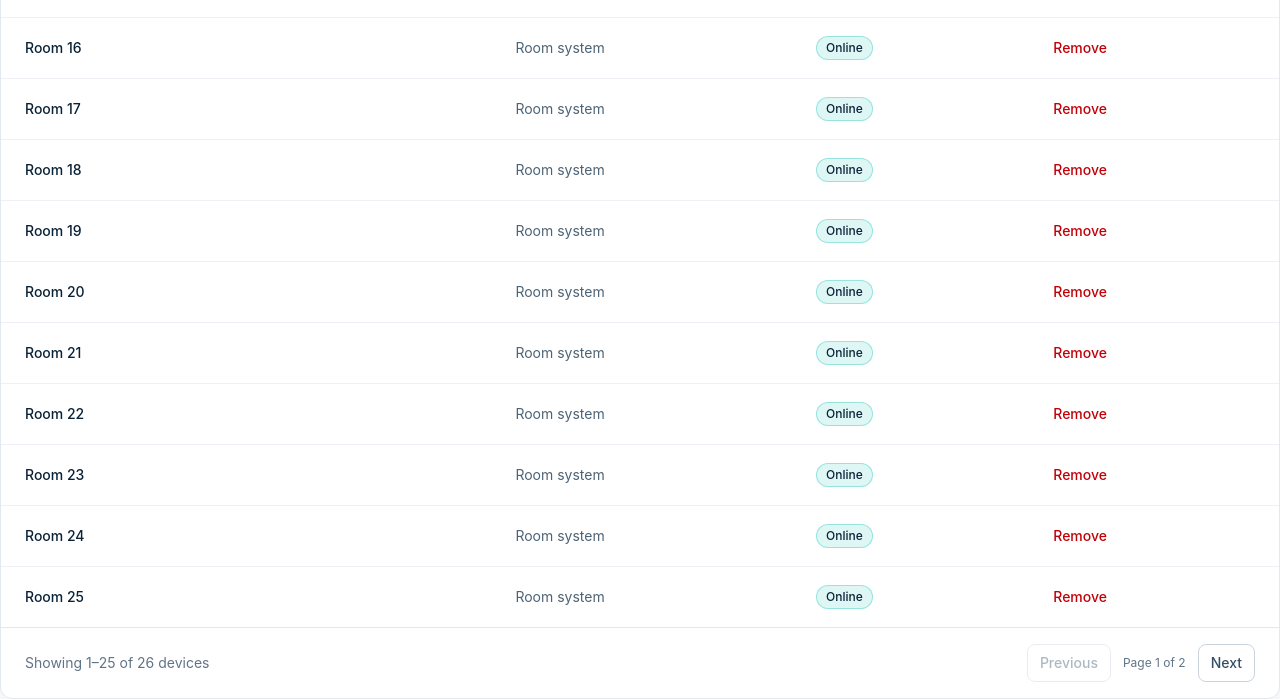
Scenario: DeviceTable › returns to the previous page after removing the only device on the last page
This screenshot has width=1280, height=699.
(page scrolled)
Click the button "Next" at {"x": 1226, "y": 663}, box [1198,644,1255,682]
(page scrolled)
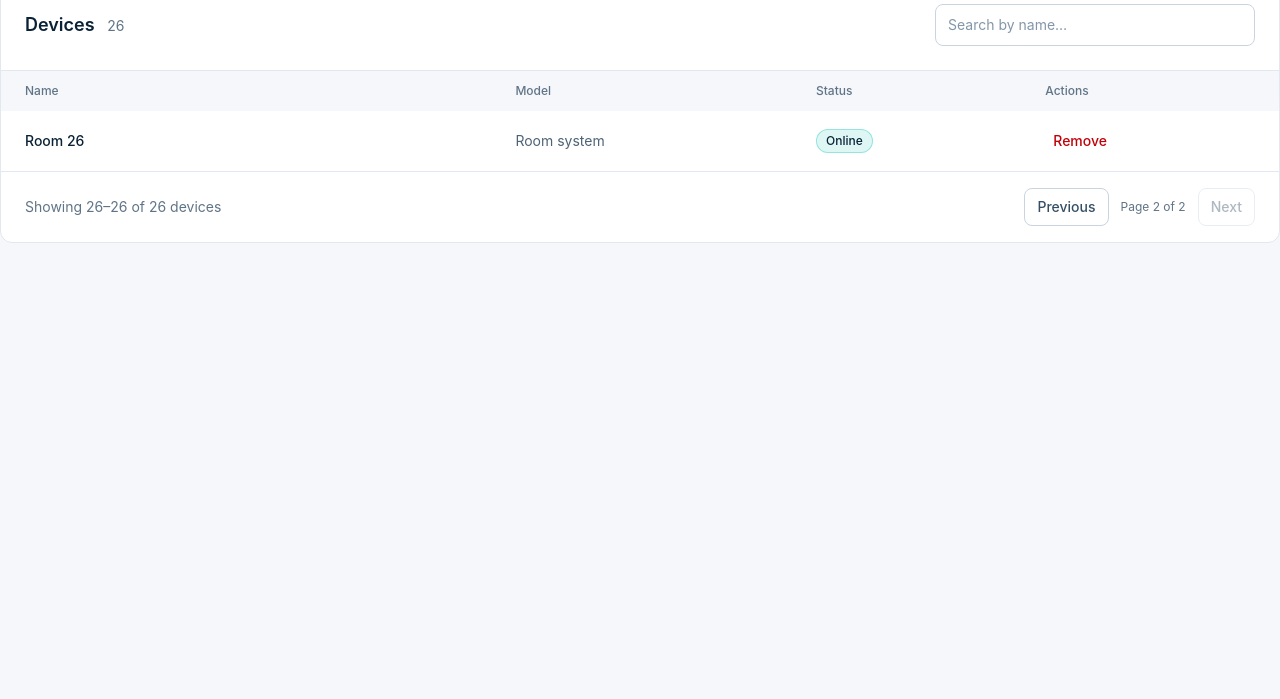
Click the button with aria-label "Remove Room 26" at {"x": 1080, "y": 141}, box [1045,127,1115,155]
(page scrolled)
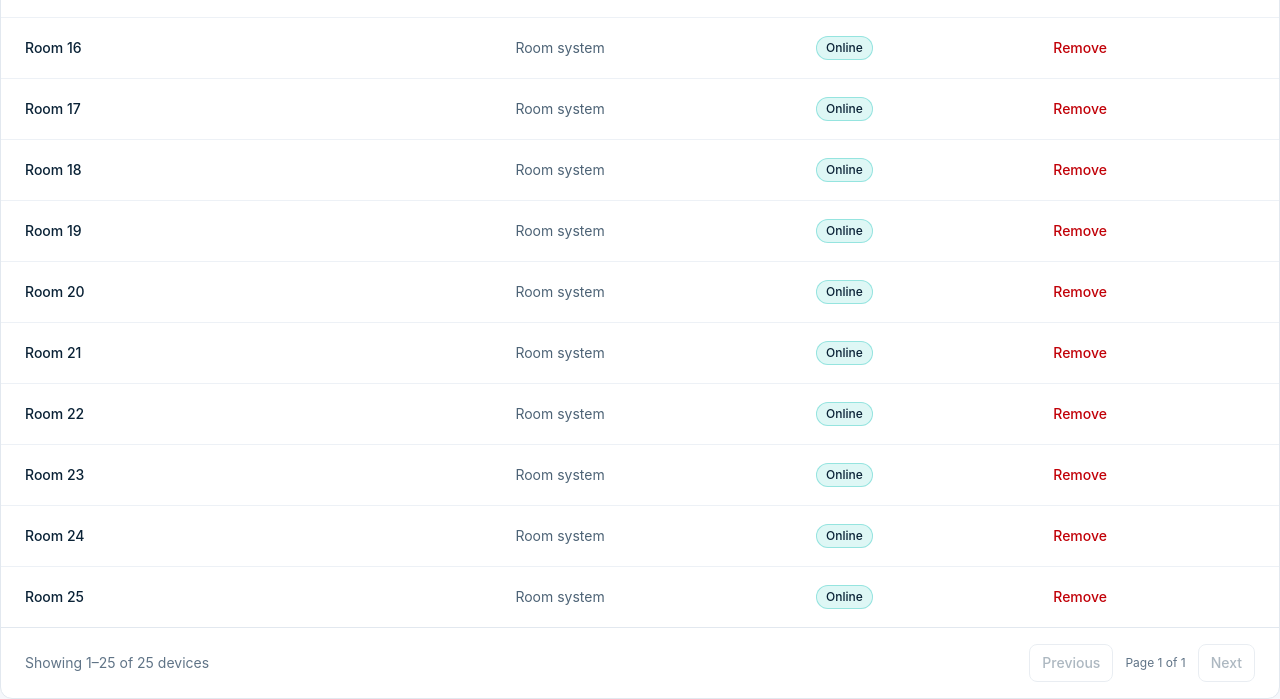
Result: the text "Room 26" is gone
Result: the text "Page 1 of 1" is shown at [1125,655,1186,671]
Result: the text "Showing 1–25 of 25 devices" is shown at [25,653,209,673]
